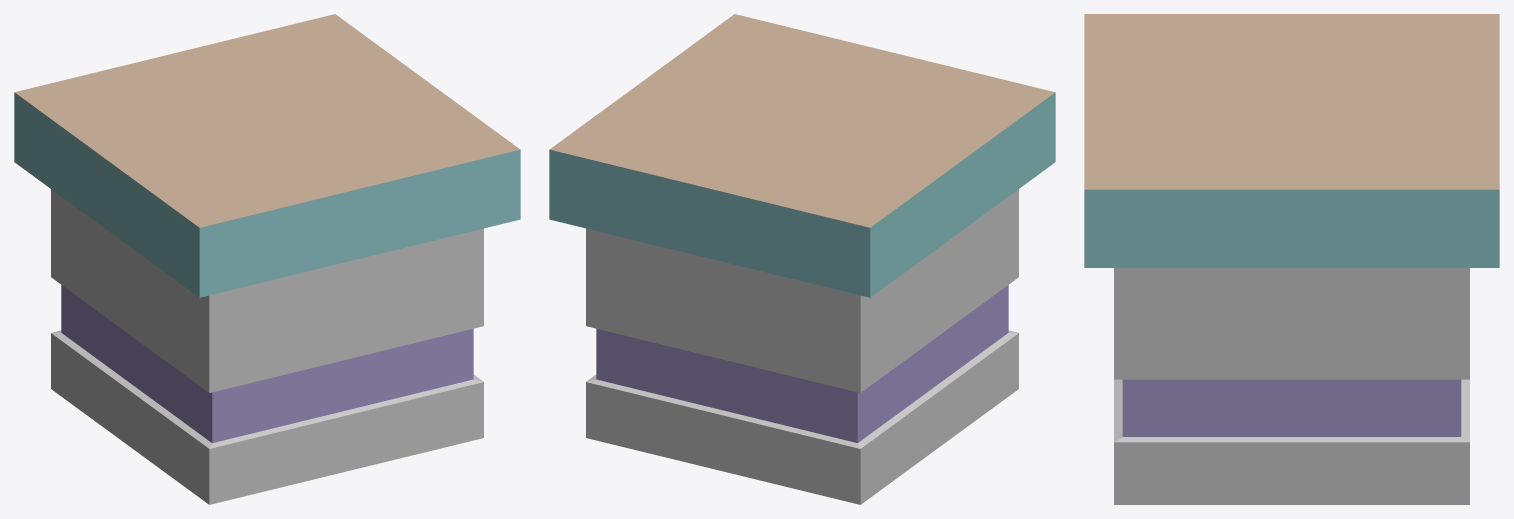
Rendered from PlatformSec.fbx.
3 views of the same model, side by side, from view 1: azimuth 30°, elevation 25°; view 2: azimuth 150°, elevation 25°; view 3: azimuth 270°, elevation 25° (orthographic). The views are drawn at different scales.
Parts seen in each view (by area): view 1: MovingPlatform; view 2: MovingPlatform; view 3: MovingPlatform.
Part boxes in pixels (x1,y1,x2,y2): MovingPlatform: [14, 14, 520, 504]; MovingPlatform: [549, 14, 1055, 504]; MovingPlatform: [1084, 14, 1499, 504].
Size of the model in its own units: 2.34 by 2.03 by 2.34.
